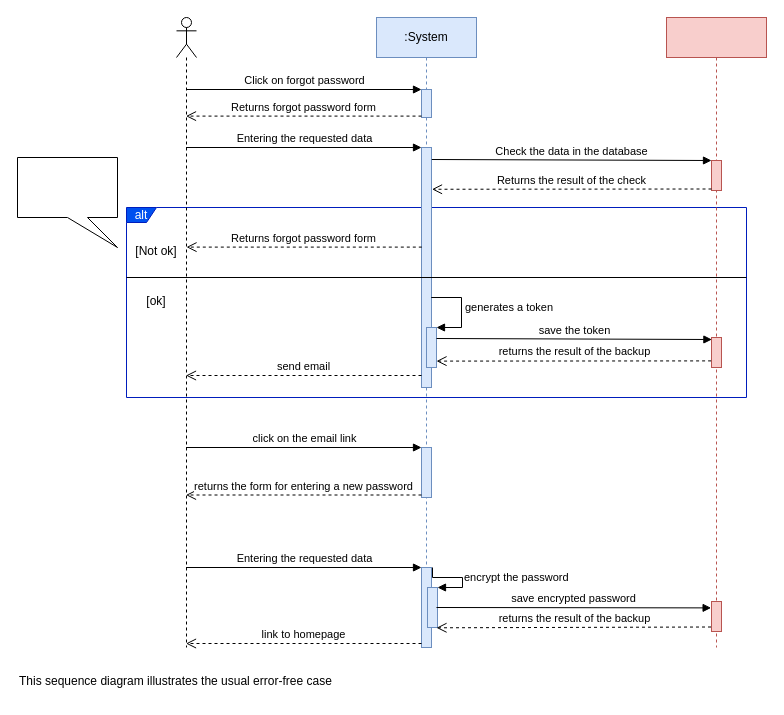
This 784x715 diagram has some shape labels left out. The box of each missing label's shape, as (x1, y1, x2, y2) in pixels:
::Database: (666, 16, 766, 648)
Return to the start of the sequence: (16, 156, 118, 248)
